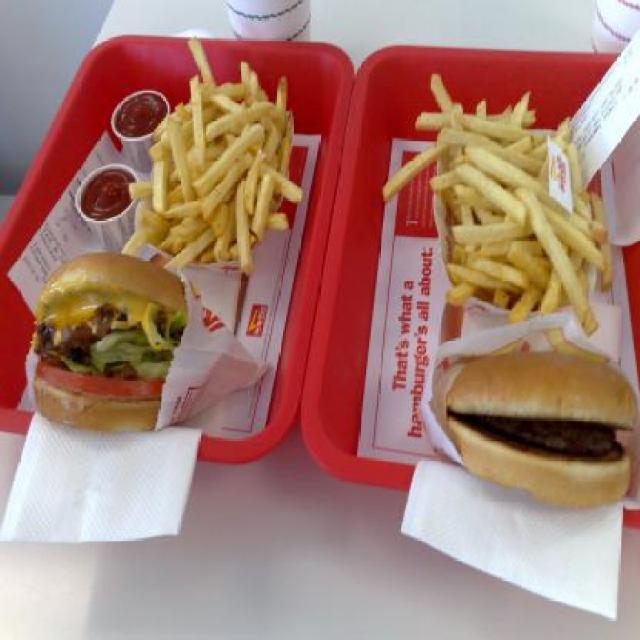Hamburger: (447, 353, 636, 504), (34, 253, 186, 430)
